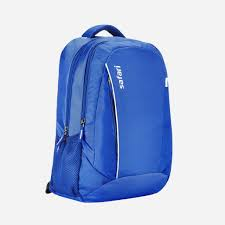backpack: (45, 23, 172, 202)
